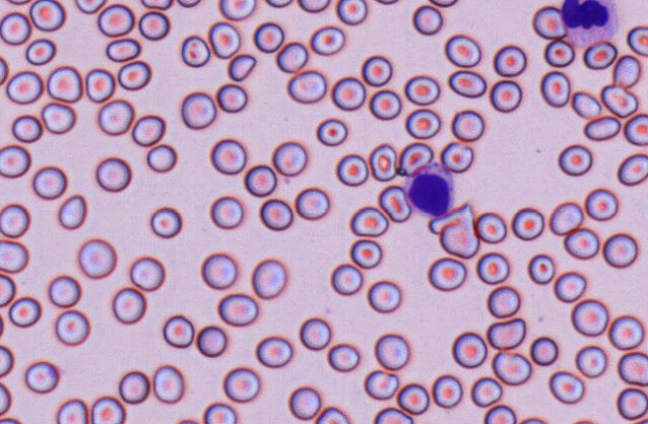GRAN: (554, 0, 624, 49)
MONO: (402, 159, 457, 219)
RBC: (78, 238, 116, 278), (570, 298, 608, 336), (439, 222, 479, 258), (251, 258, 286, 299), (427, 256, 467, 291), (217, 292, 258, 326), (200, 252, 237, 289), (97, 98, 134, 135), (222, 366, 260, 402), (180, 91, 216, 129), (491, 351, 531, 385), (451, 331, 487, 368), (46, 65, 82, 102), (129, 255, 165, 291), (54, 309, 90, 345), (608, 314, 644, 350), (95, 156, 131, 192), (210, 138, 246, 174), (602, 232, 638, 268), (374, 333, 409, 370), (5, 70, 43, 104), (287, 70, 326, 103), (272, 140, 307, 176), (112, 287, 146, 324), (97, 3, 134, 37), (255, 335, 293, 368), (349, 205, 388, 237), (152, 364, 184, 403), (331, 76, 366, 111), (294, 186, 330, 220), (548, 370, 584, 404), (207, 21, 240, 58), (444, 34, 481, 67), (32, 165, 67, 199), (532, 5, 567, 39), (549, 201, 583, 235), (209, 195, 243, 229), (584, 187, 618, 221), (40, 101, 75, 134), (288, 385, 321, 420), (24, 360, 59, 393), (557, 143, 592, 176), (563, 227, 599, 259), (540, 70, 571, 107), (486, 285, 520, 318), (367, 280, 401, 313), (243, 164, 277, 197), (574, 344, 607, 378), (511, 206, 544, 240), (29, 0, 65, 31), (405, 108, 441, 139), (404, 74, 440, 105), (448, 69, 486, 98), (489, 79, 522, 112), (335, 153, 368, 186), (476, 251, 509, 284), (493, 44, 526, 77), (450, 109, 484, 141), (259, 198, 293, 230), (162, 314, 194, 348), (131, 114, 165, 146), (84, 67, 115, 102), (309, 25, 345, 55), (330, 263, 363, 295), (299, 317, 331, 350), (275, 41, 308, 73), (396, 382, 429, 414), (0, 11, 31, 45), (118, 370, 149, 404), (431, 374, 462, 408), (582, 40, 617, 70), (48, 275, 80, 307), (149, 206, 181, 238), (475, 211, 507, 243), (8, 296, 41, 327), (553, 271, 586, 302), (616, 387, 647, 420), (0, 144, 30, 178), (117, 60, 151, 90), (617, 351, 647, 385), (0, 203, 29, 238), (58, 194, 87, 229), (470, 376, 502, 407), (196, 325, 227, 357), (252, 21, 284, 52), (369, 89, 401, 120), (361, 54, 392, 86), (349, 238, 382, 268), (180, 34, 210, 67), (617, 153, 647, 186), (583, 115, 621, 141), (90, 395, 125, 423), (412, 4, 443, 35), (327, 342, 359, 372), (138, 10, 170, 40), (315, 117, 348, 146), (0, 239, 28, 273), (216, 83, 247, 113), (146, 143, 177, 172), (543, 39, 575, 67), (105, 37, 140, 62), (571, 90, 601, 119), (529, 336, 558, 366), (527, 253, 555, 284), (11, 114, 42, 142), (25, 38, 55, 65), (56, 398, 88, 423), (623, 113, 647, 146), (336, 0, 367, 25), (218, 0, 256, 20), (203, 402, 237, 423), (373, 406, 413, 423), (626, 24, 647, 56), (483, 404, 516, 423), (314, 406, 350, 423), (0, 273, 15, 306), (74, 0, 106, 14), (0, 344, 13, 377), (297, 0, 330, 13), (0, 382, 11, 415), (140, 0, 172, 10), (0, 55, 8, 85), (264, 0, 293, 8), (517, 416, 547, 423), (428, 0, 458, 7), (176, 0, 201, 7), (642, 195, 648, 223), (569, 418, 600, 423), (176, 417, 201, 423), (0, 416, 21, 423), (373, 0, 400, 5), (6, 0, 32, 5), (0, 312, 4, 337)
Schistocyte: (427, 203, 473, 233), (487, 316, 528, 349), (378, 185, 412, 223), (599, 84, 639, 116), (441, 141, 476, 175), (363, 369, 399, 401), (611, 52, 641, 89), (400, 143, 433, 176), (371, 144, 397, 182), (228, 53, 258, 81)
